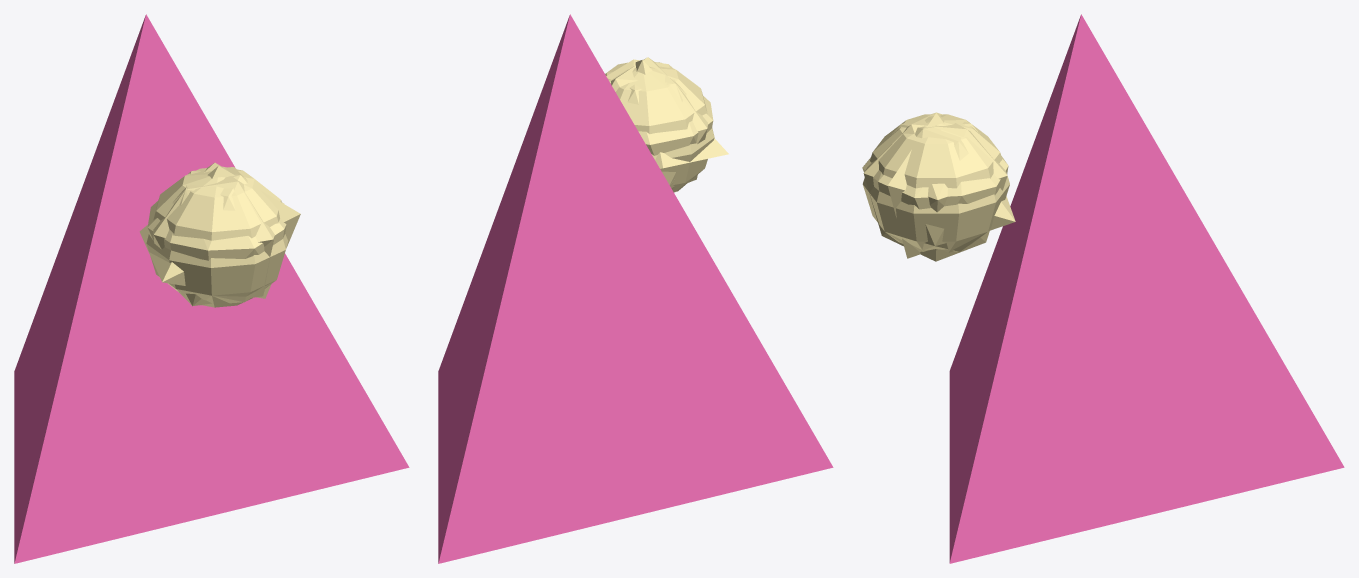
File: SM_Vampire.fbx
3 renders of one model, left to right at view 1: azimuth 30°, elevation 25°; view 2: azimuth 150°, elevation 25°; view 3: azimuth 270°, elevation 25°, orthographic.
Parts seen in each view (by area): view 1: LOD1_SM_Vampire, SM_Vampire, LOD2_SM_Vampire, LOD3_SM_Vampire; view 2: LOD1_SM_Vampire, SM_Vampire, LOD2_SM_Vampire, LOD3_SM_Vampire; view 3: LOD1_SM_Vampire, SM_Vampire, LOD2_SM_Vampire, LOD3_SM_Vampire.
Part boxes in pixels (x1,y1,x2,y2): LOD1_SM_Vampire: (14, 14, 409, 563); SM_Vampire: (146, 166, 287, 307); LOD2_SM_Vampire: (153, 162, 284, 306); LOD3_SM_Vampire: (139, 166, 300, 298); LOD1_SM_Vampire: (438, 14, 833, 563); SM_Vampire: (605, 62, 714, 192); LOD2_SM_Vampire: (611, 57, 707, 188); LOD3_SM_Vampire: (635, 60, 728, 168); LOD1_SM_Vampire: (862, 14, 1344, 563); SM_Vampire: (862, 114, 1009, 252); LOD2_SM_Vampire: (863, 112, 1007, 261); LOD3_SM_Vampire: (887, 113, 1015, 258).
Bounding box in the file's own units: 0.3118 × 0.342 × 0.3296.
